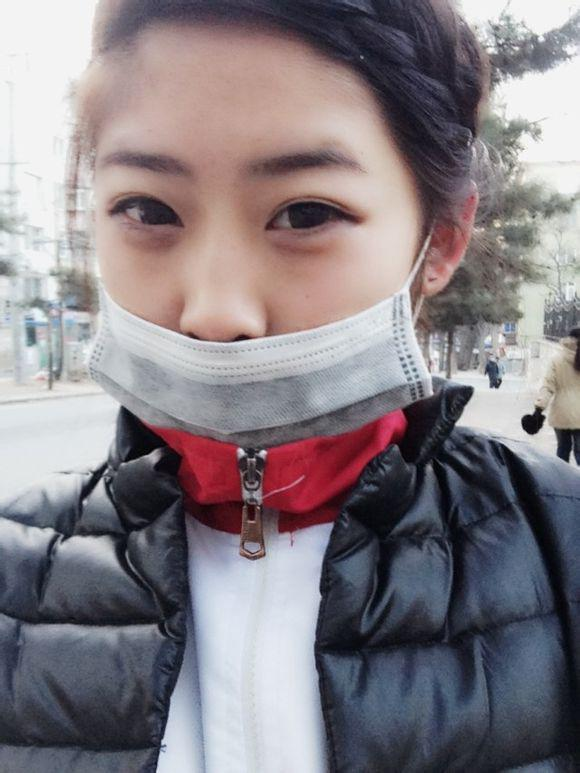WRONG: (94, 136, 416, 458)
